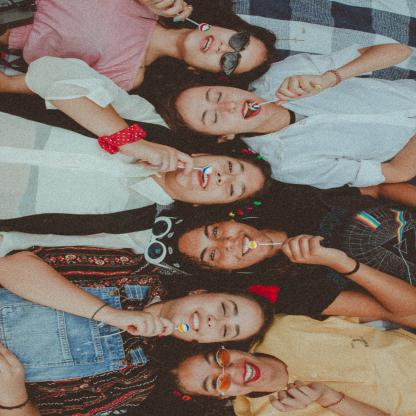Eye: (219, 302, 229, 316), (210, 226, 220, 238), (228, 183, 236, 197), (222, 324, 230, 338), (211, 376, 219, 390), (211, 112, 220, 124), (226, 161, 235, 173), (209, 249, 218, 260), (215, 92, 223, 103), (214, 353, 221, 365)
Mouth: (242, 97, 260, 120), (242, 361, 260, 384), (188, 310, 204, 333), (239, 234, 254, 256), (198, 167, 212, 190), (196, 35, 212, 53)
Nose: (219, 236, 234, 252), (219, 100, 237, 113), (224, 363, 238, 379), (216, 42, 235, 53), (216, 171, 230, 185), (207, 315, 221, 328)
